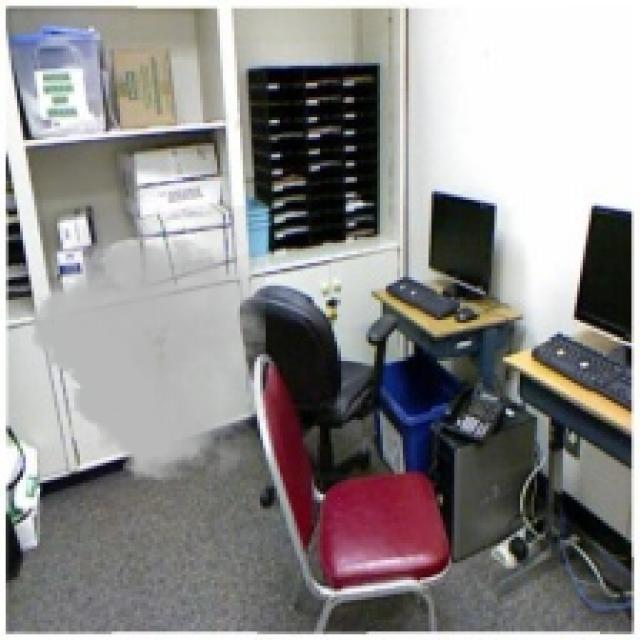Smoke: (31, 205, 266, 486)
